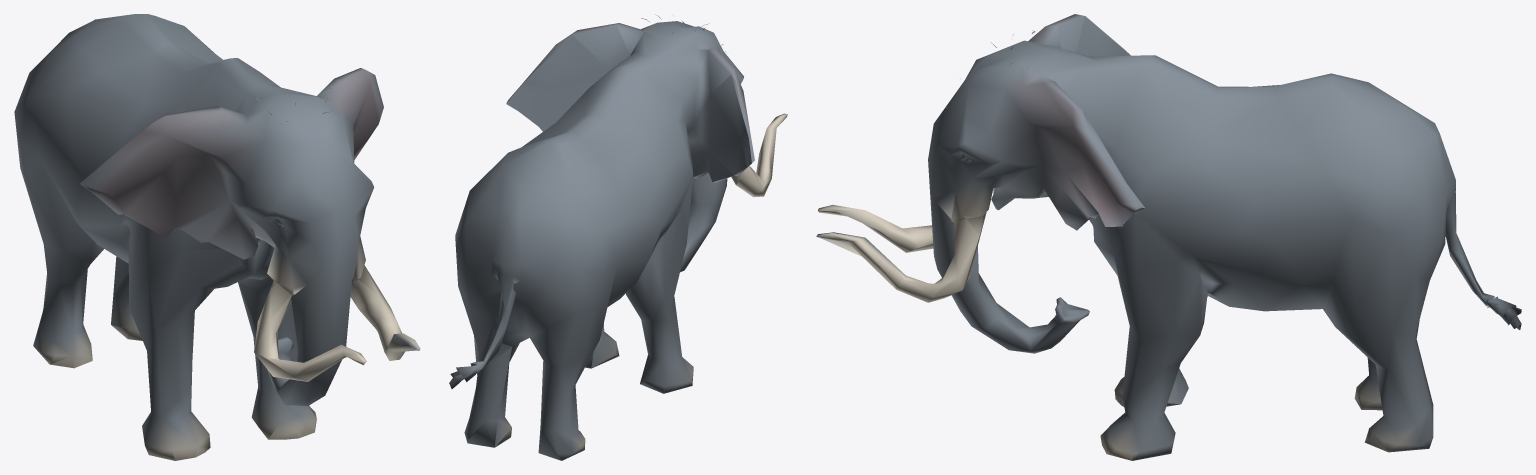
The model's file is elefante.glb.
3 renders of one model, left to right at view 1: azimuth 30°, elevation 25°; view 2: azimuth 150°, elevation 25°; view 3: azimuth 270°, elevation 25°, orthographic. The views are drawn at different scales.
Parts seen in each view (by area): view 1: Elefante; view 2: Elefante; view 3: Elefante.
Boxes of the visible parts, <box> form: Elefante: <box>14,14,420,460</box>; Elefante: <box>449,14,787,460</box>; Elefante: <box>816,14,1521,460</box>.
Bounding box in the file's own units: 0.4897 × 0.5931 × 1.
